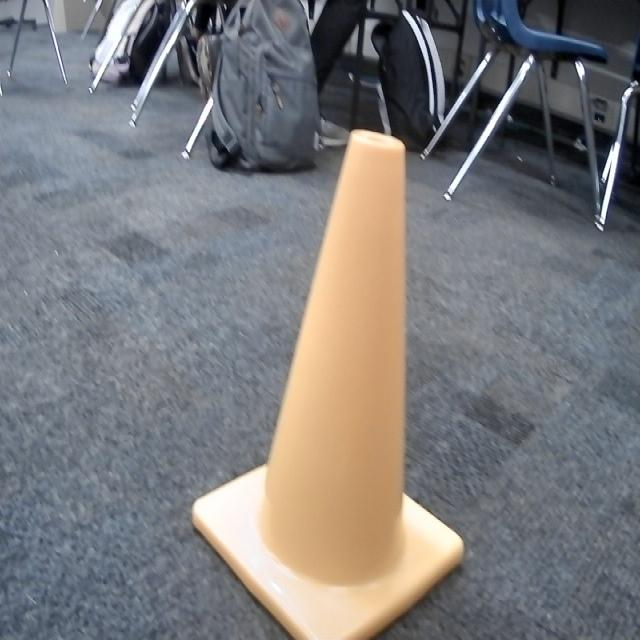cone: (189, 129, 464, 640)
